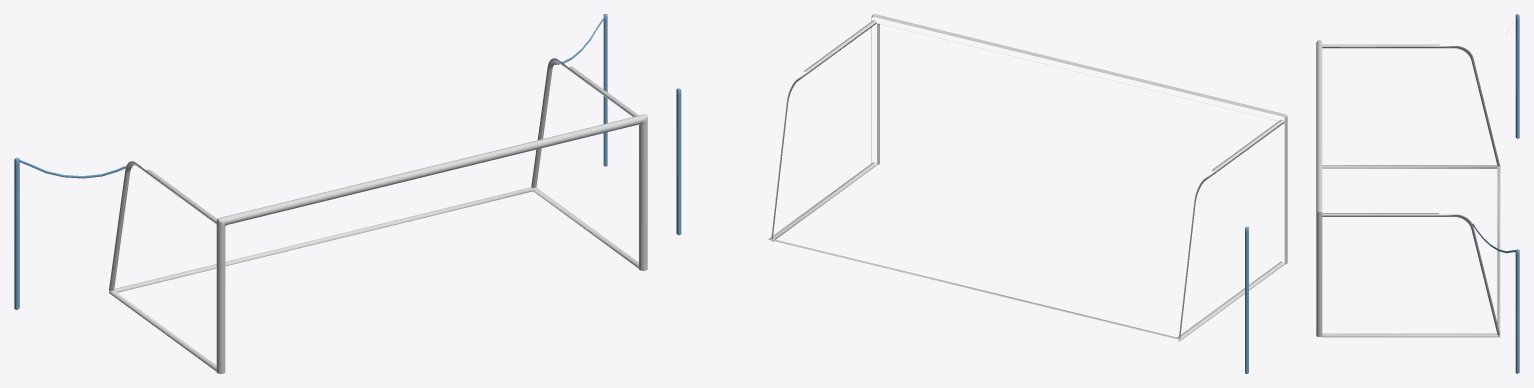
Rendered from goalFrame.glb.
3 views of the same model, side by side, from view 1: azimuth 30°, elevation 25°; view 2: azimuth 150°, elevation 25°; view 3: azimuth 270°, elevation 25° (orthographic). The views are drawn at different scales.
Visible parts, largest first — view 1: frame; view 2: frame; view 3: frame.
Boxes of the visible parts, <box> form: frame: <box>14,14,647,373</box>; frame: <box>676,14,1287,373</box>; frame: <box>1316,14,1519,373</box>.
Size of the model in its own units: 10.28 by 2.65 by 3.74.
